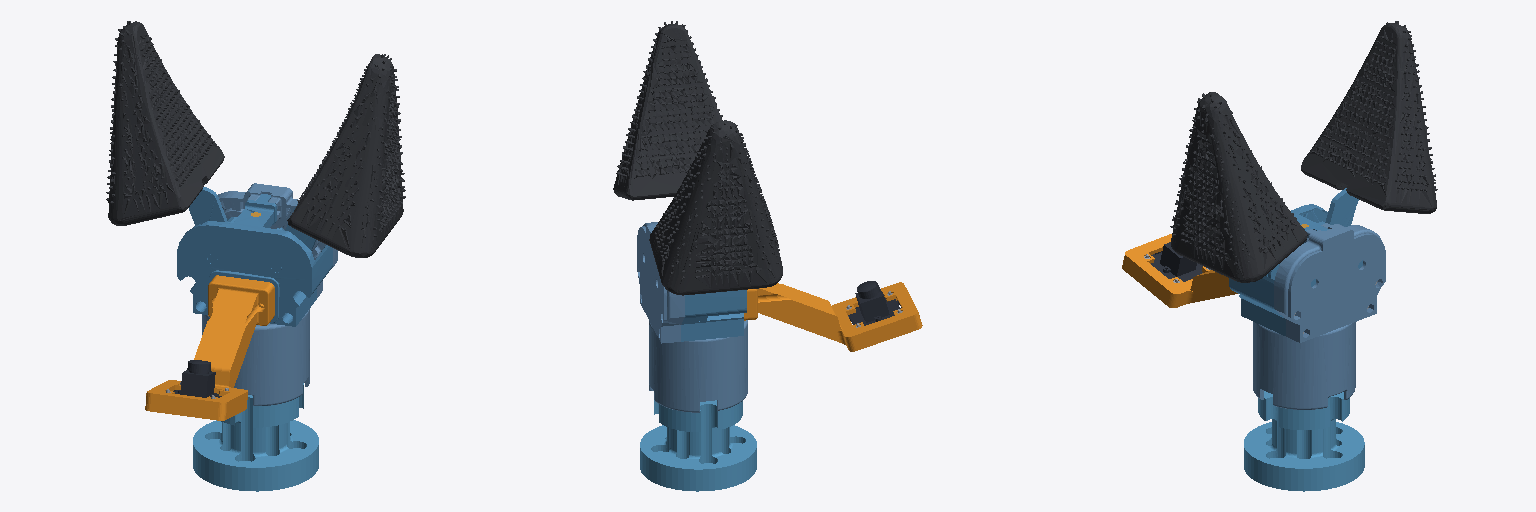
The robot description file, URDF, robot "marvin_l_with_gripper":
<?xml version='1.0' encoding='utf-8'?>
<robot name="marvin_l_with_gripper">
  <link name="Base_L">
    <inertial>
      <origin xyz="0.00032267 4.798E-05 0.04066353" rpy="0 0 0" />
      <mass value="1.1962" />
      <inertia ixx="0.00107329" ixy="-1.68E-06" ixz="-1.05E-05" iyy="0.00107003" iyz="-3.43E-06" izz="0.00127315" />
    </inertial>
    <visual>
      <origin xyz="0 0 0" rpy="0 0 0" />
      <geometry>
        <mesh filename="../meshes/Base_L.STL" />
      </geometry>
      <material name="">
        <color rgba="0.84 0.87 0.91 1" />
      </material>
    </visual>
    <collision>
      <origin xyz="0 0 0" rpy="0 0 0" />
      <geometry>
        <mesh filename="../meshes/Base_L.STL" />
      </geometry>
    </collision>
  </link>
  <link name="Link1_L">
    <inertial>
      <origin xyz="0.00002347 0.00557150 -0.03075998" rpy="0 0 0" />
      <mass value="1.9705" />
      <inertia ixx="0.00492293" ixy="0.00000550" ixz="0.00000193" iyy="0.00526513" iyz="0.00033232" izz="0.00188107" />
    </inertial>
    <visual>
      <origin xyz="0 0 0" rpy="0 0 0" />
      <geometry>
        <mesh filename="../meshes/Link1_L.STL" />
      </geometry>
      <material name="">
        <color rgba="0.84 0.87 0.91 1" />
      </material>
    </visual>
    <collision>
      <origin xyz="0 0 0" rpy="0 0 0" />
      <geometry>
        <mesh filename="../meshes/Link1_L.STL" />
      </geometry>
    </collision>
  </link>
  <joint name="Joint1_L" type="revolute">
    <origin xyz="0 0 0.1745" rpy="0 0 0" />
    <parent link="Base_L" />
    <child link="Link1_L" />
    <axis xyz="0 0 1" />
    <limit lower="-3.1067" upper="3.1067" effort="108" velocity="3.1416" />
  </joint>
  <link name="Link2_L">
    <inertial>
      <origin xyz="0.00013483 0.06170460 0.00950639" rpy="0 0 0" />
      <mass value="2.24398" />
      <inertia ixx="0.01194933" ixy="0.00000336" ixz="0.00000091" iyy="0.00361581" iyz="-0.00132804" izz="0.01098356" />
    </inertial>
    <visual>
      <origin xyz="0 0 0" rpy="0 0 0" />
      <geometry>
        <mesh filename="../meshes/Link2_L.STL" />
      </geometry>
      <material name="">
        <color rgba="0.84 0.87 0.91 1" />
      </material>
    </visual>
    <collision>
      <origin xyz="0 0 0" rpy="0 0 0" />
      <geometry>
        <mesh filename="../meshes/Link2_L.STL" />
      </geometry>
    </collision>
  </link>
  <joint name="Joint2_L" type="revolute">
    <origin xyz="0 0 0" rpy="1.5708 0 0" />
    <parent link="Link1_L" />
    <child link="Link2_L" />
    <axis xyz="0 0 1" />
    <limit lower="-2.0944" upper="2.0944" effort="108" velocity="3.1416" />
  </joint>
  <link name="Link3_L">
    <inertial>
      <origin xyz="0.00968562 0.00246599 -0.04627302" rpy="0 0 0" />
      <mass value="1.9242" />
      <inertia ixx="0.00718224" ixy="0.00004413" ixz="0.00089552" iyy="0.00762563" iyz="0.00022096" izz="0.00178597" />
    </inertial>
    <visual>
      <origin xyz="0 0 0" rpy="0 0 0" />
      <geometry>
        <mesh filename="../meshes/Link3_L.STL" />
      </geometry>
      <material name="">
        <color rgba="0.84 0.87 0.91 1" />
      </material>
    </visual>
    <collision>
      <origin xyz="0 0 0" rpy="0 0 0" />
      <geometry>
        <mesh filename="../meshes/Link3_L.STL" />
      </geometry>
    </collision>
  </link>
  <joint name="Joint3_L" type="revolute">
    <origin xyz="0 0.287 0" rpy="-1.5708 0 0" />
    <parent link="Link2_L" />
    <child link="Link3_L" />
    <axis xyz="0 0 1" />
    <limit lower="-3.1067" upper="3.1067" effort="66" velocity="3.1416" />
  </joint>
  <link name="Link4_L">
    <inertial>
      <origin xyz="0.00850411 -0.04718223 0.00941509" rpy="0 0 0" />
      <mass value="1.6085" />
      <inertia ixx="0.00580480" ixy="-0.00066669" ixz="-0.00012722" iyy="0.00223807" iyz="0.00070523" izz="0.00533060" />
    </inertial>
    <visual>
      <origin xyz="0 0 0" rpy="0 0 0" />
      <geometry>
        <mesh filename="../meshes/Link4_L.STL" />
      </geometry>
      <material name="">
        <color rgba="0.84 0.87 0.91 1" />
      </material>
    </visual>
    <collision>
      <origin xyz="0 0 0" rpy="0 0 0" />
      <geometry>
        <mesh filename="../meshes/Link4_L.STL" />
      </geometry>
    </collision>
  </link>
  <joint name="Joint4_L" type="revolute">
    <origin xyz="0.018 0 0" rpy="-1.5708 0 3.1416" />
    <parent link="Link3_L" />
    <child link="Link4_L" />
    <axis xyz="0 0 1" />
    <limit lower="-2.5307" upper="1.0472" effort="66" velocity="3.1416" />
  </joint>
  <link name="Link5_L">
    <inertial>
      <origin xyz="0.00051127 0.00101064 -0.11271739" rpy="0 0 0" />
      <mass value="2.0883" />
      <inertia ixx="0.00626603" ixy="0.00004009" ixz="0.00005338" iyy="0.00564387" iyz="-0.00006193" izz="0.00243632" />
    </inertial>
    <visual>
      <origin xyz="0 0 0" rpy="0 0 0" />
      <geometry>
        <mesh filename="../meshes/Link5_L.STL" />
      </geometry>
      <material name="">
        <color rgba="0.84 0.87 0.91 1" />
      </material>
    </visual>
    <collision>
      <origin xyz="0 0 0" rpy="0 0 0" />
      <geometry>
        <mesh filename="../meshes/Link5_L.STL" />
      </geometry>
    </collision>
  </link>
  <joint name="Joint5_L" type="revolute">
    <origin xyz="0.018 -0.314 0" rpy="-1.5708 0 3.1416" />
    <parent link="Link4_L" />
    <child link="Link5_L" />
    <axis xyz="0 0 1" />
    <limit lower="-3.1067" upper="3.1067" effort="18" velocity="3.1416" />
  </joint>
  <link name="Link6_L">
    <inertial>
      <origin xyz="0.00032659 0.00531336 -0.00030182" rpy="0 0 0" />
      <mass value="0.72496" />
      <inertia ixx="0.00046040" ixy="0.00000189" ixz="0.00000083" iyy="0.00051716" iyz="-0.00000346" izz="0.00042521" />
    </inertial>
    <visual>
      <origin xyz="0 0 0" rpy="0 0 0" />
      <geometry>
        <mesh filename="../meshes/Link6_L.STL" />
      </geometry>
      <material name="">
        <color rgba="0.84 0.87 0.91 1" />
      </material>
    </visual>
    <collision>
      <origin xyz="0 0 0" rpy="0 0 0" />
      <geometry>
        <mesh filename="../meshes/Link6_L.STL" />
      </geometry>
    </collision>
  </link>
  <joint name="Joint6_L" type="revolute">
    <origin xyz="0 0 0" rpy="1.5708 -1.5708 0" />
    <parent link="Link5_L" />
    <child link="Link6_L" />
    <axis xyz="0 0 1" />
    <limit lower="-1.0472" upper="1.0472" effort="18" velocity="3.1416" />
  </joint>
  <link name="Link7_L">
    <inertial>
      <origin xyz="-0.00009108 -0.03153255 0.00889371" rpy="0 0 0" />
      <mass value="0.68606" />
      <inertia ixx="0.00173687" ixy="-0.00000345" ixz="-0.00000116" iyy="0.00089035" iyz="0.00030680" izz="0.00139406" />
    </inertial>
    <visual>
      <origin xyz="0 0 0" rpy="0 0 0" />
      <geometry>
        <mesh filename="../meshes/Link7_L.STL" />
      </geometry>
      <material name="">
        <color rgba="0.84 0.87 0.91 1" />
      </material>
    </visual>
    <collision>
      <origin xyz="0 0 0" rpy="0 0 0" />
      <geometry>
        <mesh filename="../meshes/Link7_L.STL" />
      </geometry>
    </collision>
  </link>
  <joint name="Joint7_L" type="revolute">
    <origin xyz="0 0 0" rpy="1.5708 -1.5708 0" />
    <parent link="Link6_L" />
    <child link="Link7_L" />
    <axis xyz="0 0 1" />
    <limit lower="-1.5708" upper="1.5708" effort="18" velocity="3.1416" />
  </joint>
  <mujoco>
    <compiler discardvisual="false" fusestatic="false" strippath="false" />
  </mujoco>
  <link name="flange_L" />
  <joint name="flange_fixed_L" type="fixed">
    <parent link="Link7_L" />
    <child link="flange_L" />
    <origin xyz="0 -0.095 0" rpy="1.57079632679 -1.57079632679 0" />
  </joint>
  <link name="gripper_L">
    <inertial>
      <origin xyz="0.0173978487962 -0.0173985527421 0.0879018604755" rpy="0 0 0" />
      <mass value="0.5599999999999999" />
      <inertia ixx="0.002279585654318638" iyy="0.00227957296689104" izz="0.0016745101131867824" ixy="0" ixz="0" iyz="0" />
    </inertial>
    <visual name="windows_00">
      <origin xyz="0 0 0" rpy="0 0 0" />
      <geometry>
        <mesh filename="../meshes/gripper/windows_00.stl" />
      </geometry>
      <material name="windows_00">
        <color rgba="0.65 0.66 0.68 1" />
      </material>
    </visual>
    <visual name="windows_01">
      <origin xyz="0 0 0" rpy="0 0 0" />
      <geometry>
        <mesh filename="../meshes/gripper/windows_01.stl" />
      </geometry>
      <material name="windows_01">
        <color rgba="0.65 0.66 0.68 1" />
      </material>
    </visual>
    <visual name="windows_02">
      <origin xyz="0 0 0" rpy="0 0 0" />
      <geometry>
        <mesh filename="../meshes/gripper/windows_02.stl" />
      </geometry>
      <material name="windows_02">
        <color rgba="0.65 0.66 0.68 1" />
      </material>
    </visual>
    <visual name="windows_03">
      <origin xyz="0 0 0" rpy="0 0 0" />
      <geometry>
        <mesh filename="../meshes/gripper/windows_03.stl" />
      </geometry>
      <material name="windows_03">
        <color rgba="0.65 0.66 0.68 1" />
      </material>
    </visual>
    <visual name="windows_04">
      <origin xyz="0 0 0" rpy="0 0 0" />
      <geometry>
        <mesh filename="../meshes/gripper/windows_04.stl" />
      </geometry>
      <material name="windows_04">
        <color rgba="0.65 0.66 0.68 1" />
      </material>
    </visual>
    <visual name="windows_05">
      <origin xyz="0 0 0" rpy="0 0 0" />
      <geometry>
        <mesh filename="../meshes/gripper/windows_05.stl" />
      </geometry>
      <material name="windows_05">
        <color rgba="0.65 0.66 0.68 1" />
      </material>
    </visual>
    <visual name="windows_06">
      <origin xyz="0 0 0" rpy="0 0 0" />
      <geometry>
        <mesh filename="../meshes/gripper/windows_06.stl" />
      </geometry>
      <material name="windows_06">
        <color rgba="0.65 0.66 0.68 1" />
      </material>
    </visual>
    <visual name="windows_07">
      <origin xyz="0 0 0" rpy="0 0 0" />
      <geometry>
        <mesh filename="../meshes/gripper/windows_07.stl" />
      </geometry>
      <material name="windows_07">
        <color rgba="0.65 0.66 0.68 1" />
      </material>
    </visual>
    <visual name="windows_08">
      <origin xyz="0 0 0" rpy="0 0 0" />
      <geometry>
        <mesh filename="../meshes/gripper/windows_08.stl" />
      </geometry>
      <material name="windows_08">
        <color rgba="0.65 0.66 0.68 1" />
      </material>
    </visual>
    <visual name="windows_09">
      <origin xyz="0 0 0" rpy="0 0 0" />
      <geometry>
        <mesh filename="../meshes/gripper/windows_09.stl" />
      </geometry>
      <material name="windows_09">
        <color rgba="0.65 0.66 0.68 1" />
      </material>
    </visual>
    <visual name="windows_12">
      <origin xyz="0 0 0" rpy="0 0 0" />
      <geometry>
        <mesh filename="../meshes/gripper/windows_12.stl" />
      </geometry>
      <material name="windows_12">
        <color rgba="0.64 0.67 0.71 1" />
      </material>
    </visual>
    <visual name="windows_13">
      <origin xyz="0 0 0" rpy="0 0 0" />
      <geometry>
        <mesh filename="../meshes/gripper/windows_13.stl" />
      </geometry>
      <material name="windows_13">
        <color rgba="0.43 0.58 0.72 1" />
      </material>
    </visual>
    <collision>
      <origin xyz="0 0 0" rpy="0 0 0" />
      <geometry>
        <mesh filename="../meshes/gripper/windows_13_collision.stl" />
      </geometry>
    </collision>
    <visual name="windows_14">
      <origin xyz="0 0 0" rpy="0 0 0" />
      <geometry>
        <mesh filename="../meshes/gripper/windows_14.stl" />
      </geometry>
      <material name="windows_14">
        <color rgba="0.92 0.6 0.2 1" />
      </material>
    </visual>
    <visual name="windows_15">
      <origin xyz="0 0 0" rpy="0 0 0" />
      <geometry>
        <mesh filename="../meshes/gripper/windows_15.stl" />
      </geometry>
      <material name="windows_15">
        <color rgba="0.83 0.62 0.28 1" />
      </material>
    </visual>
    <visual name="windows_18">
      <origin xyz="0 0 0" rpy="0 0 0" />
      <geometry>
        <mesh filename="../meshes/gripper/windows_18.stl" />
      </geometry>
      <material name="windows_18">
        <color rgba="0.64 0.67 0.71 1" />
      </material>
    </visual>
    <visual name="windows_19">
      <origin xyz="0 0 0" rpy="0 0 0" />
      <geometry>
        <mesh filename="../meshes/gripper/windows_19.stl" />
      </geometry>
      <material name="windows_19">
        <color rgba="0.64 0.67 0.71 1" />
      </material>
    </visual>
    <visual name="windows_20">
      <origin xyz="0 0 0" rpy="0 0 0" />
      <geometry>
        <mesh filename="../meshes/gripper/windows_20.stl" />
      </geometry>
      <material name="windows_20">
        <color rgba="0.35 0.57 0.73 1" />
      </material>
    </visual>
    <collision>
      <origin xyz="0 0 0" rpy="0 0 0" />
      <geometry>
        <mesh filename="../meshes/gripper/windows_20_collision.stl" />
      </geometry>
    </collision>
    <visual name="windows_21">
      <origin xyz="0 0 0" rpy="0 0 0" />
      <geometry>
        <mesh filename="../meshes/gripper/windows_21.stl" />
      </geometry>
      <material name="windows_21">
        <color rgba="0.22 0.24 0.28 1" />
      </material>
    </visual>
    <visual name="windows_22">
      <origin xyz="0 0 0" rpy="0 0 0" />
      <geometry>
        <mesh filename="../meshes/gripper/windows_22.stl" />
      </geometry>
      <material name="windows_22">
        <color rgba="0.38 0.64 0.8 1" />
      </material>
    </visual>
    <visual name="windows_23">
      <origin xyz="0 0 0" rpy="0 0 0" />
      <geometry>
        <mesh filename="../meshes/gripper/windows_23.stl" />
      </geometry>
      <material name="windows_23">
        <color rgba="0.43 0.58 0.72 1" />
      </material>
    </visual>
    <collision>
      <origin xyz="0 0 0" rpy="0 0 0" />
      <geometry>
        <mesh filename="../meshes/gripper/windows_23_collision.stl" />
      </geometry>
    </collision>
    <visual name="windows_25">
      <origin xyz="0 0 0" rpy="0 0 0" />
      <geometry>
        <mesh filename="../meshes/gripper/windows_25.stl" />
      </geometry>
      <material name="windows_25">
        <color rgba="0.64 0.67 0.71 1" />
      </material>
    </visual>
    <visual name="windows_26">
      <origin xyz="0 0 0" rpy="0 0 0" />
      <geometry>
        <mesh filename="../meshes/gripper/windows_26.stl" />
      </geometry>
      <material name="windows_26">
        <color rgba="0.64 0.67 0.71 1" />
      </material>
    </visual>
    <visual name="windows_27">
      <origin xyz="0 0 0" rpy="0 0 0" />
      <geometry>
        <mesh filename="../meshes/gripper/windows_27.stl" />
      </geometry>
      <material name="windows_27">
        <color rgba="0.64 0.67 0.71 1" />
      </material>
    </visual>
    <visual name="windows_28">
      <origin xyz="0 0 0" rpy="0 0 0" />
      <geometry>
        <mesh filename="../meshes/gripper/windows_28.stl" />
      </geometry>
      <material name="windows_28">
        <color rgba="0.64 0.67 0.71 1" />
      </material>
    </visual>
    <visual name="windows_29">
      <origin xyz="0 0 0" rpy="0 0 0" />
      <geometry>
        <mesh filename="../meshes/gripper/windows_29.stl" />
      </geometry>
      <material name="windows_29">
        <color rgba="0.65 0.66 0.68 1" />
      </material>
    </visual>
    <visual name="windows_30">
      <origin xyz="0 0 0" rpy="0 0 0" />
      <geometry>
        <mesh filename="../meshes/gripper/windows_30.stl" />
      </geometry>
      <material name="windows_30">
        <color rgba="0.64 0.67 0.71 1" />
      </material>
    </visual>
    <visual name="windows_31">
      <origin xyz="0 0 0" rpy="0 0 0" />
      <geometry>
        <mesh filename="../meshes/gripper/windows_31.stl" />
      </geometry>
      <material name="windows_31">
        <color rgba="0.65 0.66 0.68 1" />
      </material>
    </visual>
    <visual name="windows_32">
      <origin xyz="0 0 0" rpy="0 0 0" />
      <geometry>
        <mesh filename="../meshes/gripper/windows_32.stl" />
      </geometry>
      <material name="windows_32">
        <color rgba="0.65 0.66 0.68 1" />
      </material>
    </visual>
    <visual name="windows_33">
      <origin xyz="0 0 0" rpy="0 0 0" />
      <geometry>
        <mesh filename="../meshes/gripper/windows_33.stl" />
      </geometry>
      <material name="windows_33">
        <color rgba="0.65 0.66 0.68 1" />
      </material>
    </visual>
    <visual name="windows_34">
      <origin xyz="0 0 0" rpy="0 0 0" />
      <geometry>
        <mesh filename="../meshes/gripper/windows_34.stl" />
      </geometry>
      <material name="windows_34">
        <color rgba="0.64 0.67 0.71 1" />
      </material>
    </visual>
    <visual name="windows_35">
      <origin xyz="0 0 0" rpy="0 0 0" />
      <geometry>
        <mesh filename="../meshes/gripper/windows_35.stl" />
      </geometry>
      <material name="windows_35">
        <color rgba="0.65 0.66 0.68 1" />
      </material>
    </visual>
    <visual name="windows_36">
      <origin xyz="0 0 0" rpy="0 0 0" />
      <geometry>
        <mesh filename="../meshes/gripper/windows_36.stl" />
      </geometry>
      <material name="windows_36">
        <color rgba="0.64 0.67 0.71 1" />
      </material>
    </visual>
    <visual name="windows_37">
      <origin xyz="0 0 0" rpy="0 0 0" />
      <geometry>
        <mesh filename="../meshes/gripper/windows_37.stl" />
      </geometry>
      <material name="windows_37">
        <color rgba="0.64 0.67 0.71 1" />
      </material>
    </visual>
  </link>
  <link name="gripper_L_shaft">
    <inertial>
      <origin xyz="0 0 0.0222999959052" rpy="0 0 0" />
      <mass value="0.08000000000000002" />
      <inertia ixx="3.8087871309740615e-05" iyy="3.809107795905756e-05" izz="1.6325626265346687e-05" ixy="0" ixz="0" iyz="0" />
    </inertial>
    <visual name="windows_24">
      <origin xyz="0 0 0" rpy="0 0 0" />
      <geometry>
        <mesh filename="../meshes/gripper/windows_24.stl" />
      </geometry>
      <material name="windows_24">
        <color rgba="0.83 0.62 0.28 1" />
      </material>
    </visual>
  </link>
  <link name="gripper_L_1">
    <inertial>
      <origin xyz="0.00609649628609 -0.00743152875382 0.0388951395498" rpy="0 0 0" />
      <mass value="0.08000000000000002" />
      <inertia ixx="9.842353058535354e-05" iyy="0.00010140583011828495" izz="4.556528629881749e-05" ixy="0" ixz="0" iyz="0" />
    </inertial>
    <visual name="windows_11">
      <origin xyz="0 0 0" rpy="0 0 0" />
      <geometry>
        <mesh filename="../meshes/gripper/windows_11.stl" />
      </geometry>
      <material name="windows_11">
        <color rgba="0.25 0.26 0.28 1" />
      </material>
    </visual>
    <collision>
      <origin xyz="0 0 0" rpy="0 0 0" />
      <geometry>
        <mesh filename="../meshes/gripper/windows_11_collision.stl" />
      </geometry>
    </collision>
    <visual name="windows_16">
      <origin xyz="0 0 0" rpy="0 0 0" />
      <geometry>
        <mesh filename="../meshes/gripper/windows_16.stl" />
      </geometry>
      <material name="windows_16">
        <color rgba="0.35 0.57 0.73 1" />
      </material>
    </visual>
    <collision>
      <origin xyz="0 0 0" rpy="0 0 0" />
      <geometry>
        <mesh filename="../meshes/gripper/windows_16_collision.stl" />
      </geometry>
    </collision>
  </link>
  <link name="gripper_L_17">
    <inertial>
      <origin xyz="0.00932866686431 0.00192968675112 0.0388951440536" rpy="0 0 0" />
      <mass value="0.08000000000000002" />
      <inertia ixx="9.888106375838761e-05" iyy="9.648394838028121e-05" izz="4.1100970061134626e-05" ixy="0" ixz="0" iyz="0" />
    </inertial>
    <visual name="windows_10">
      <origin xyz="0 0 0" rpy="0 0 0" />
      <geometry>
        <mesh filename="../meshes/gripper/windows_10.stl" />
      </geometry>
      <material name="windows_10">
        <color rgba="0.25 0.26 0.28 1" />
      </material>
    </visual>
    <collision>
      <origin xyz="0 0 0" rpy="0 0 0" />
      <geometry>
        <mesh filename="../meshes/gripper/windows_10_collision.stl" />
      </geometry>
    </collision>
    <visual name="windows_17">
      <origin xyz="0 0 0" rpy="0 0 0" />
      <geometry>
        <mesh filename="../meshes/gripper/windows_17.stl" />
      </geometry>
      <material name="windows_17">
        <color rgba="0.35 0.57 0.73 1" />
      </material>
    </visual>
    <collision>
      <origin xyz="0 0 0" rpy="0 0 0" />
      <geometry>
        <mesh filename="../meshes/gripper/windows_17_collision.stl" />
      </geometry>
    </collision>
  </link>
  <joint name="gripper_drive_L" type="revolute">
    <parent link="gripper_L" />
    <child link="gripper_L_shaft" />
    <origin xyz="1.10189635194e-14 9.66596594432e-13 0.1527" rpy="0 0 0" />
    <axis xyz="5.26951314166e-16 -1.72167242171e-11 -1" />
    <limit lower="0" upper="1.0760578316929892" effort="2" velocity="7" />
  </joint>
  <joint name="gripper_jaw_1_L" type="revolute">
    <parent link="gripper_L" />
    <child link="gripper_L_1" />
    <origin xyz="-0.0134169278033 0.0146629353591 0.141725549598" rpy="0 0 0" />
    <axis xyz="-0.737757472959 -0.675065292805 0.00087266452685" />
    <limit lower="-0.14271280859747848" upper="0.36563074194220935" effort="2" velocity="7" />
    <mimic joint="gripper_drive_L" multiplier="-0.47241285325705773" offset="0.36563074194220935" />
  </joint>
  <joint name="gripper_jaw_17_L" type="revolute">
    <parent link="gripper_L" />
    <child link="gripper_L_17" />
    <origin xyz="0.0134169278033 -0.0146629353575 0.141725549599" rpy="0 0 0" />
    <axis xyz="-0.737757472959 -0.675065292805 0.00087266452685" />
    <limit lower="-0.36563074194220935" upper="0.14271280859747848" effort="2" velocity="7" />
    <mimic joint="gripper_drive_L" multiplier="0.47241285325705773" offset="-0.36563074194220935" />
  </joint>
  <joint name="gripper_mount_L" type="fixed">
    <parent link="flange_L" />
    <child link="gripper_L" />
    <origin xyz="0 0 0" rpy="0 0 -4.4408920985006262e-16" />
  </joint>
  <link name="grasp_center_L" />
  <joint name="grasp_center_fixed_L" type="fixed">
    <parent link="gripper_L" />
    <child link="grasp_center_L" />
    <origin xyz="1.10241676898e-14 7.77652248152e-13 0.141725549598" rpy="-1.45632245152e-08 -1.56992366216 0.741053563255" />
  </joint>
</robot>

--- Facts derived from the render (not from the file) ---
The picture shows the robot from 3 angles, left to right: view 1: azimuth 30°, elevation 25°; view 2: azimuth 150°, elevation 25°; view 3: azimuth 270°, elevation 25°; orthographic projection.
Model marvin_l_with_gripper with 14 links and 13 joints (10 revolute, 3 fixed), rooted at Base_L, posed all joints at 0.
Links seen in each view (by area): view 1: gripper_L, gripper_L_1, gripper_L_17; view 2: gripper_L, gripper_L_1, gripper_L_17; view 3: gripper_L, gripper_L_1, gripper_L_17.
Link boxes in pixels (left/top/right/bottom): gripper_L: left=145, top=183, right=337, bottom=491; gripper_L_1: left=106, top=21, right=237, bottom=263; gripper_L_17: left=271, top=54, right=405, bottom=272; gripper_L: left=637, top=222, right=922, bottom=491; gripper_L_1: left=649, top=120, right=782, bottom=295; gripper_L_17: left=613, top=21, right=722, bottom=200; gripper_L: left=1122, top=204, right=1385, bottom=491; gripper_L_1: left=1301, top=21, right=1437, bottom=268; gripper_L_17: left=1170, top=92, right=1315, bottom=286.
Size in the robot's own frame: 0.2003 by 0.1957 by 0.2795 metres.
Meshes: 46 distinct files referenced, 37 mesh visuals loaded (37 binary STL); not drawn: 9 (reference not matched to a file when rendering).
